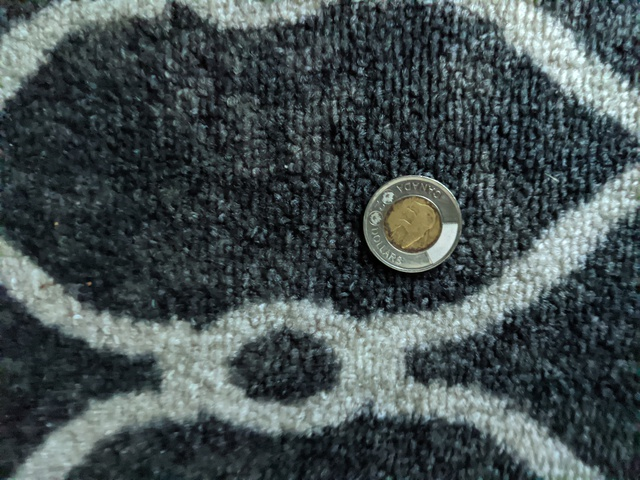twonie: (346, 163, 466, 278)
